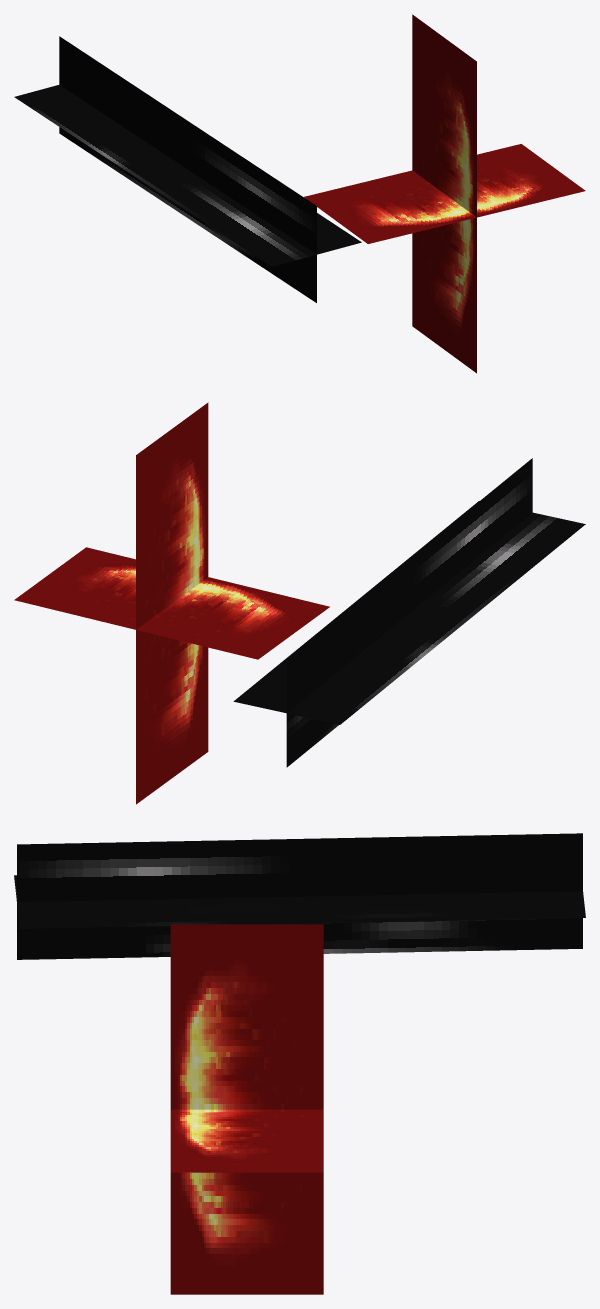
The model's file is effect.FBX.
3 renders of one model, top to bottom at view 1: azimuth 30°, elevation 25°; view 2: azimuth 150°, elevation 25°; view 3: azimuth 270°, elevation 25°, orthographic. The views are drawn at different scales.
Visible parts, largest first — view 1: zhua_1_1, zhua_2_2; view 2: zhua_1_1, zhua_2_2; view 3: zhua_2_2, zhua_1_1.
Boxes of the visible parts, box(x1,y1,x2,y2) form: zhua_1_1: box(304, 14, 585, 373); zhua_2_2: box(14, 36, 361, 302); zhua_1_1: box(14, 402, 329, 804); zhua_2_2: box(233, 458, 585, 767); zhua_2_2: box(14, 833, 585, 959); zhua_1_1: box(170, 924, 323, 1294).
Bounding box in the file's own units: 2.3 × 1.72 × 2.4.
2 materials, 2 textured.
